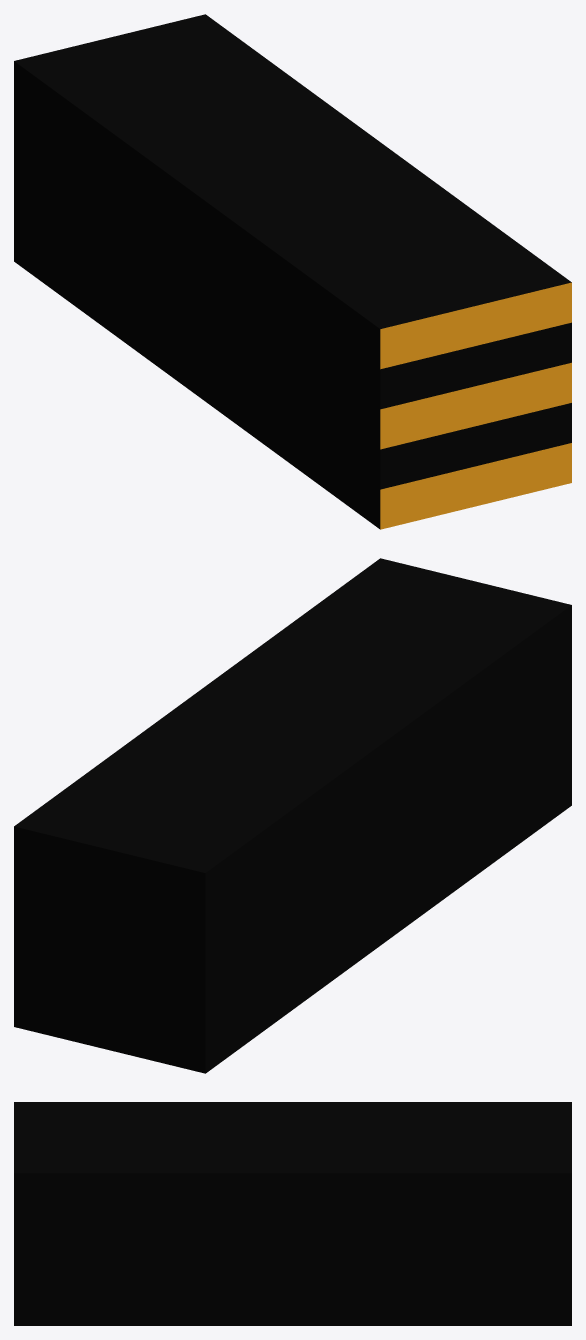
Rendered from Stair_3.fbx.
3 views of the same model, one above another, from view 1: azimuth 30°, elevation 25°; view 2: azimuth 150°, elevation 25°; view 3: azimuth 270°, elevation 25° (orthographic). The views are drawn at different scales.
Parts seen in each view (by area): view 1: Cube; view 2: Cube; view 3: Cube.
Part boxes in pixels (left/top/right/bottom): Cube: left=14, top=14, right=571, bottom=529; Cube: left=14, top=558, right=571, bottom=1073; Cube: left=14, top=1102, right=571, bottom=1325.
Size of the model in its own units: 200 by 200 by 662.
